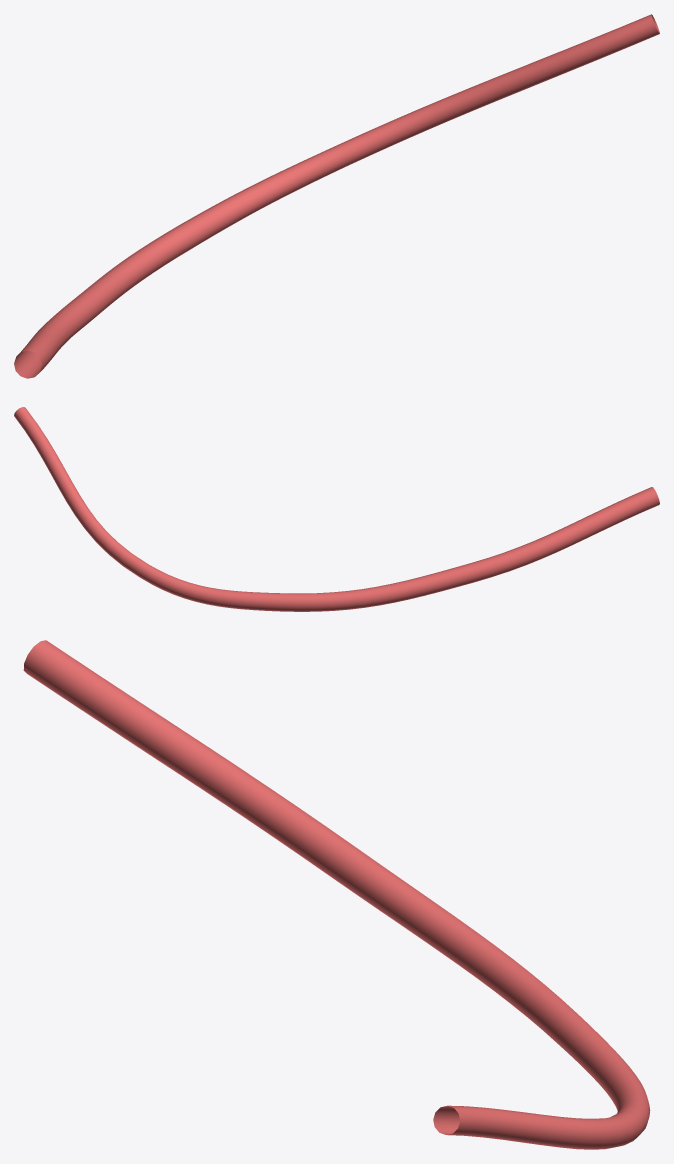
The model's file is Posterior_circumflex_humeral_artery.l_BezierCurve.138.glb.
3 renders of one model, top to bottom at view 1: azimuth 30°, elevation 25°; view 2: azimuth 150°, elevation 25°; view 3: azimuth 270°, elevation 25°, orthographic. The views are drawn at different scales.
Parts seen in each view (by area): view 1: Posterior_circumflex_humeral_artery.l_BezierCurve.138; view 2: Posterior_circumflex_humeral_artery.l_BezierCurve.138; view 3: Posterior_circumflex_humeral_artery.l_BezierCurve.138.
Part boxes in pixels (x1,y1,x2,y2): Posterior_circumflex_humeral_artery.l_BezierCurve.138: [14, 14, 659, 378]; Posterior_circumflex_humeral_artery.l_BezierCurve.138: [14, 407, 659, 611]; Posterior_circumflex_humeral_artery.l_BezierCurve.138: [23, 640, 650, 1149].
Bounding box in the file's own units: 0.0512 × 0.01 × 0.0256.
